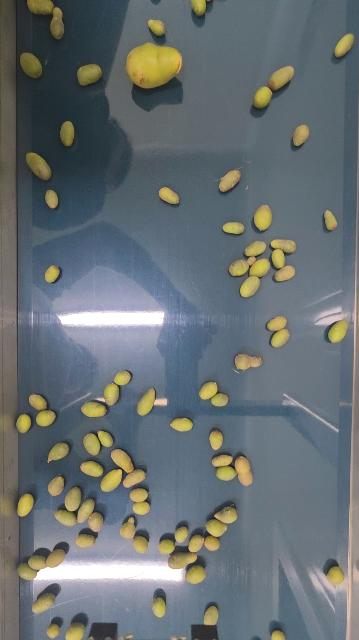Baby Potato: (122, 40, 185, 90), (25, 150, 53, 182), (268, 64, 296, 91), (76, 62, 104, 87), (234, 454, 255, 487), (252, 201, 273, 233), (20, 51, 44, 79), (167, 550, 200, 570), (110, 447, 135, 473), (48, 5, 66, 40), (218, 167, 242, 193), (228, 256, 257, 277), (31, 590, 56, 614), (100, 468, 124, 492), (327, 317, 349, 343), (334, 32, 356, 58), (137, 388, 156, 417), (76, 497, 96, 524), (234, 353, 263, 371), (47, 442, 70, 464), (63, 486, 83, 511), (16, 492, 35, 518), (82, 432, 101, 458), (81, 400, 108, 418), (185, 563, 207, 585), (239, 276, 261, 298), (253, 85, 273, 109), (123, 468, 147, 488), (214, 504, 238, 524), (248, 257, 272, 277), (58, 119, 75, 147), (206, 517, 229, 537), (119, 514, 137, 539), (244, 239, 269, 257), (80, 460, 105, 478), (270, 238, 298, 254), (159, 185, 181, 205), (25, 0, 54, 15), (292, 123, 310, 147), (273, 264, 297, 282), (46, 547, 66, 568), (199, 380, 219, 401), (55, 508, 77, 527), (47, 474, 65, 497), (215, 464, 238, 482), (103, 382, 120, 406), (270, 328, 290, 348), (327, 564, 345, 586), (208, 429, 225, 452), (170, 416, 194, 432), (65, 621, 85, 640), (267, 314, 288, 332), (28, 392, 47, 411), (36, 409, 56, 427), (17, 563, 37, 581), (222, 220, 246, 235), (188, 533, 206, 553), (270, 248, 288, 268), (211, 452, 235, 467), (16, 412, 32, 434), (88, 511, 104, 533), (189, 0, 208, 18), (147, 18, 166, 36), (75, 532, 96, 548), (28, 553, 47, 570), (96, 429, 113, 448), (44, 264, 60, 284), (44, 188, 59, 209), (204, 605, 219, 626), (324, 209, 338, 231), (152, 596, 166, 618), (203, 535, 221, 552), (210, 392, 229, 408), (132, 535, 148, 553), (113, 370, 131, 386), (129, 487, 148, 502), (158, 538, 175, 554), (131, 501, 150, 515), (174, 525, 189, 542), (46, 623, 60, 639), (270, 628, 288, 640)
